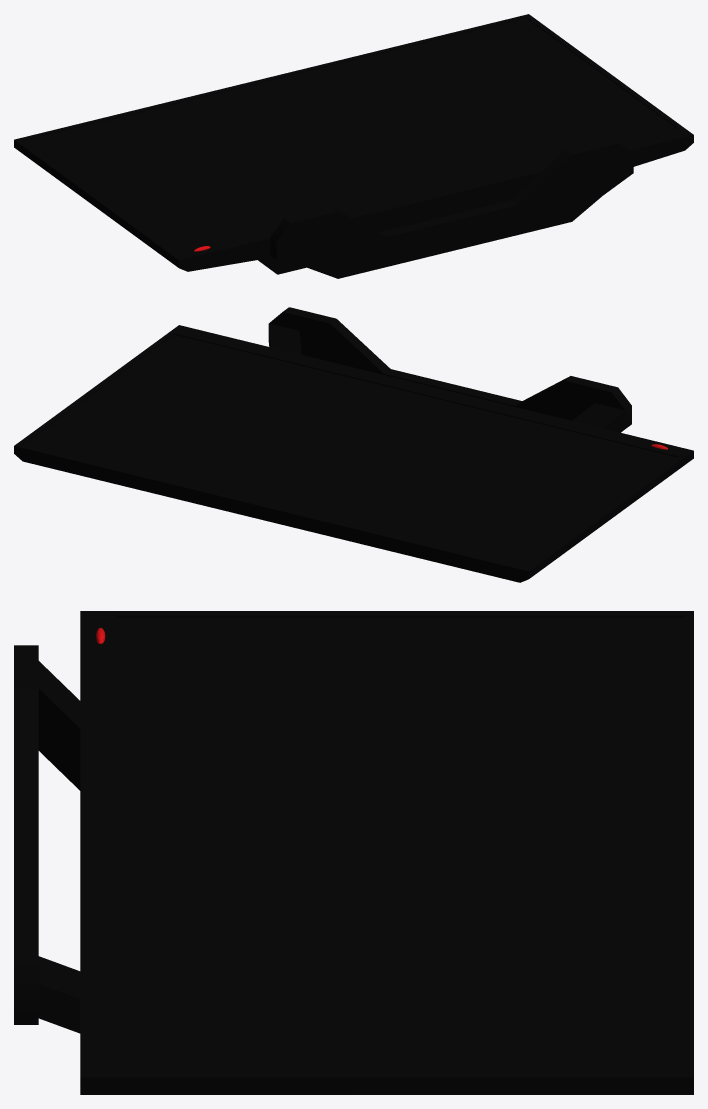
Rendered from Fit_DianShi_9X6X1_off.FBX.
The picture shows the model from 3 angles, top to bottom: view 1: azimuth 30°, elevation 25°; view 2: azimuth 150°, elevation 25°; view 3: azimuth 270°, elevation 25°; orthographic projection. The views are drawn at different scales.
Parts seen in each view (by area): view 1: Box109; view 2: Box109; view 3: Box109.
Boxes of the visible parts, box(x1,y1,x2,y2) form: Box109: box(14, 14, 693, 278); Box109: box(14, 307, 693, 582); Box109: box(14, 611, 693, 1094).
Size of the model in its own units: 9 by 1.14 by 5.54.
